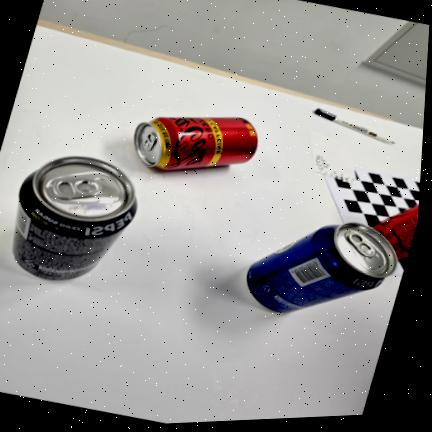can_coke_decaf: (134, 116, 258, 171)
can_coke_zero: (373, 205, 419, 262)
can_pepsi: (246, 223, 397, 313)
can_pepsi_zero: (13, 157, 137, 280)
